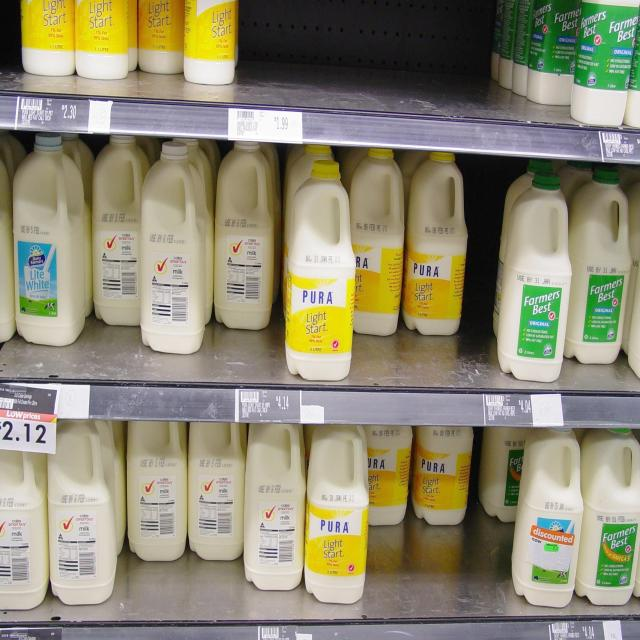empty_space: (249, 7, 487, 97), (373, 515, 499, 605)
